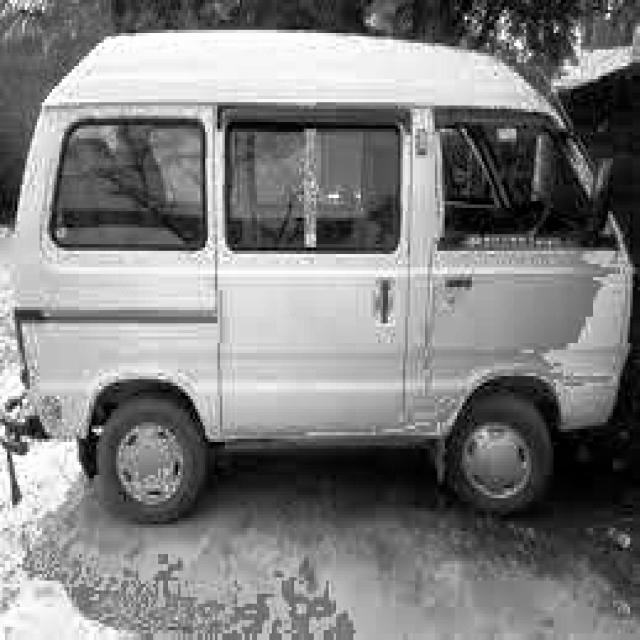LCV: (5, 26, 635, 528)
